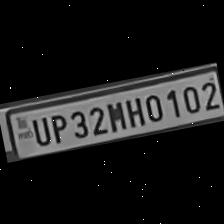0: (139, 89, 166, 123), (176, 81, 202, 115)
1: (160, 85, 182, 120)
2: (83, 100, 108, 136), (196, 76, 220, 111)
3: (64, 104, 90, 140)
H: (120, 93, 146, 129)
M: (102, 96, 127, 132)
P: (46, 109, 71, 144)
U: (26, 113, 52, 147)
